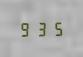five: (49, 19, 63, 36)
nine: (18, 20, 32, 37)
three: (34, 20, 48, 36)
